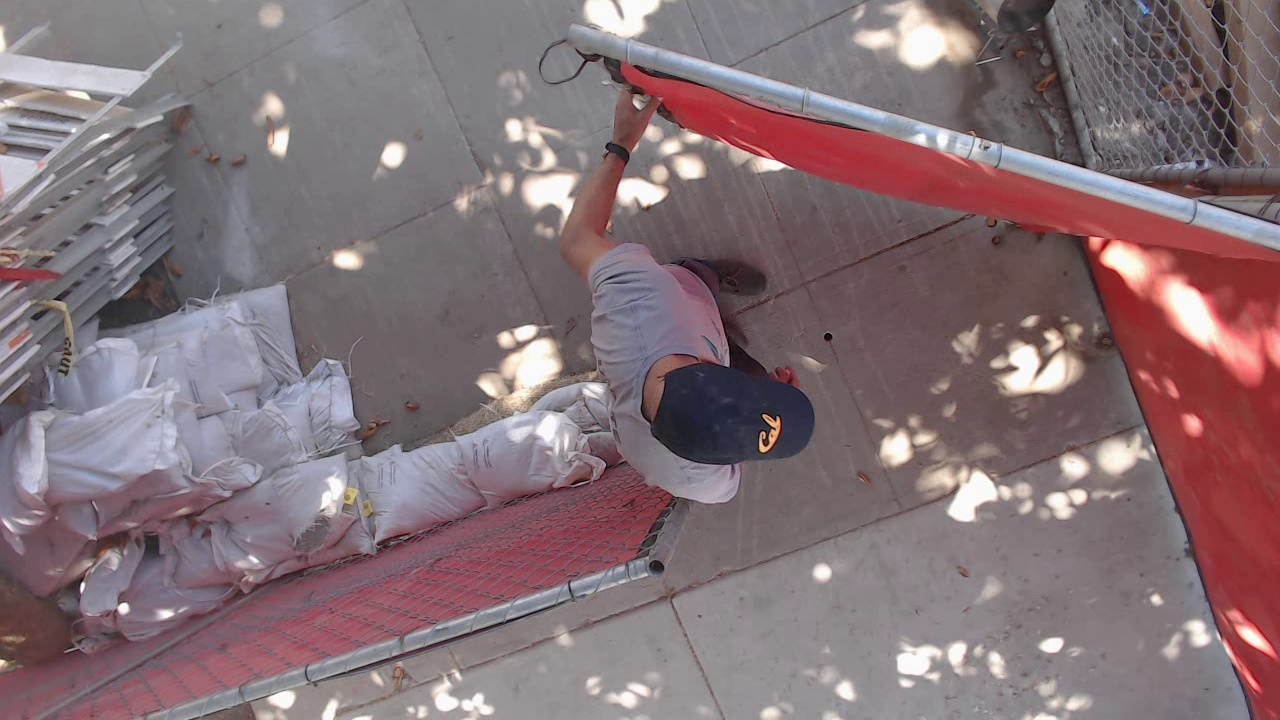person: (529, 177, 771, 448)
safetyvest: (564, 208, 776, 444)
